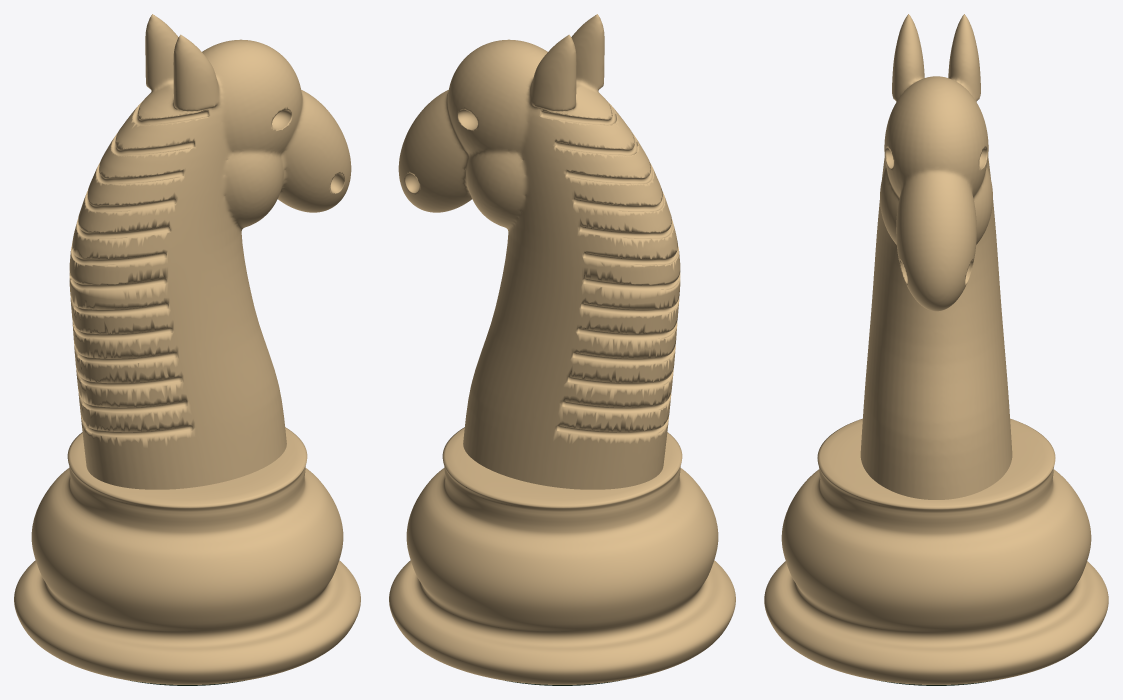
Rendered from knight.glb.
3 views of the same model, side by side, from view 1: azimuth 30°, elevation 25°; view 2: azimuth 150°, elevation 25°; view 3: azimuth 270°, elevation 25° (orthographic).
Parts seen in each view (by area): view 1: Dubrovnik Knight.001; view 2: Dubrovnik Knight.001; view 3: Dubrovnik Knight.001.
Part boxes in pixels (x1,y1,x2,y2): Dubrovnik Knight.001: (14, 14, 360, 685); Dubrovnik Knight.001: (389, 14, 735, 685); Dubrovnik Knight.001: (764, 14, 1108, 685).
Size of the model in its own units: 0.0395 by 0.0739 by 0.0383.
